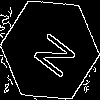N: (25, 25, 78, 80)
